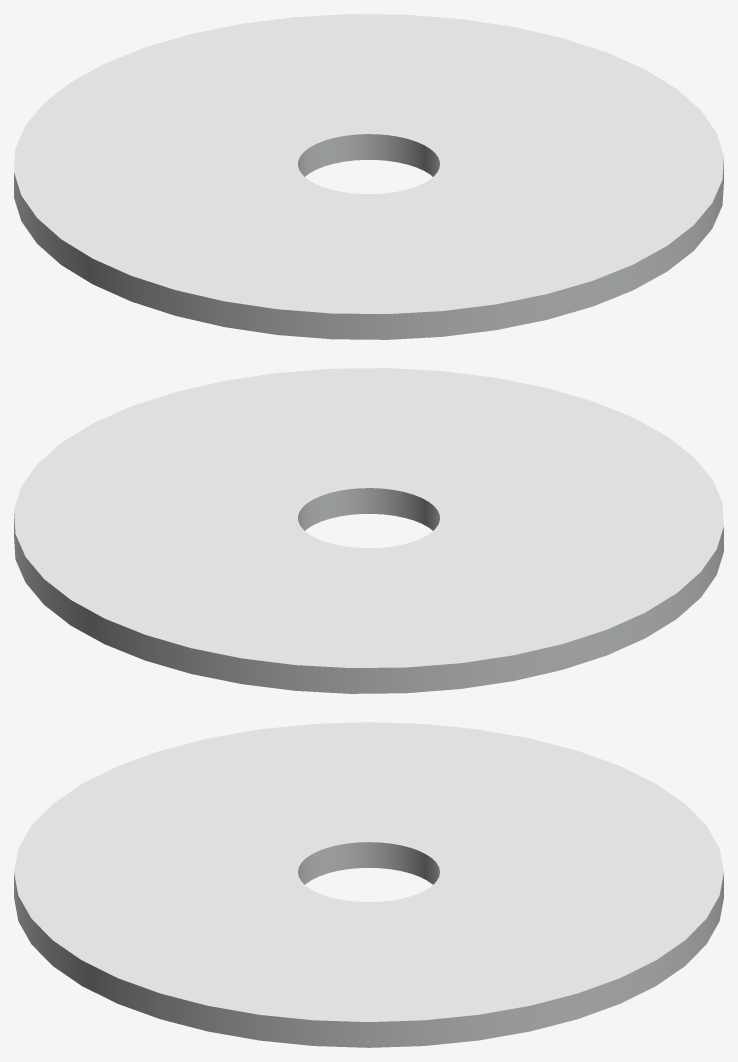
Rendered from Platform.Cylinder.003.fbx.
The picture shows the model from 3 angles, top to bottom: view 1: azimuth 30°, elevation 25°; view 2: azimuth 150°, elevation 25°; view 3: azimuth 270°, elevation 25°; orthographic projection.
Visible parts, largest first — view 1: Platform.Cylinder.003; view 2: Platform.Cylinder.003; view 3: Platform.Cylinder.003.
Boxes of the visible parts, left/top/right/bottom form: Platform.Cylinder.003: left=14, top=14, right=723, bottom=339; Platform.Cylinder.003: left=14, top=368, right=723, bottom=693; Platform.Cylinder.003: left=14, top=722, right=723, bottom=1047.
Bounding box in the file's own units: 25 × 1 × 25.
